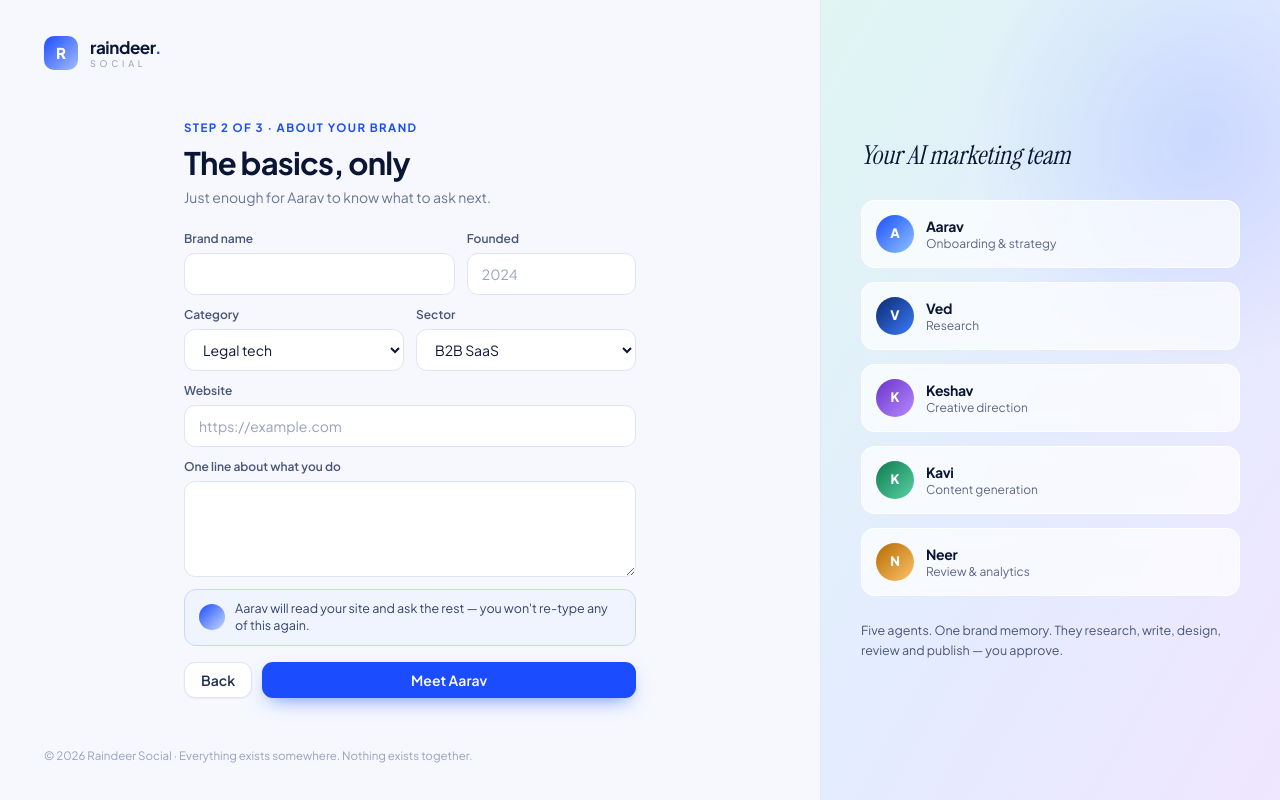
Test: SignupBrandPage › requires a brand name before submitting
The image size is (1280, 800).
Click the button "Meet Aarav".
click(449, 680)  # box 262,662 -> 636,698
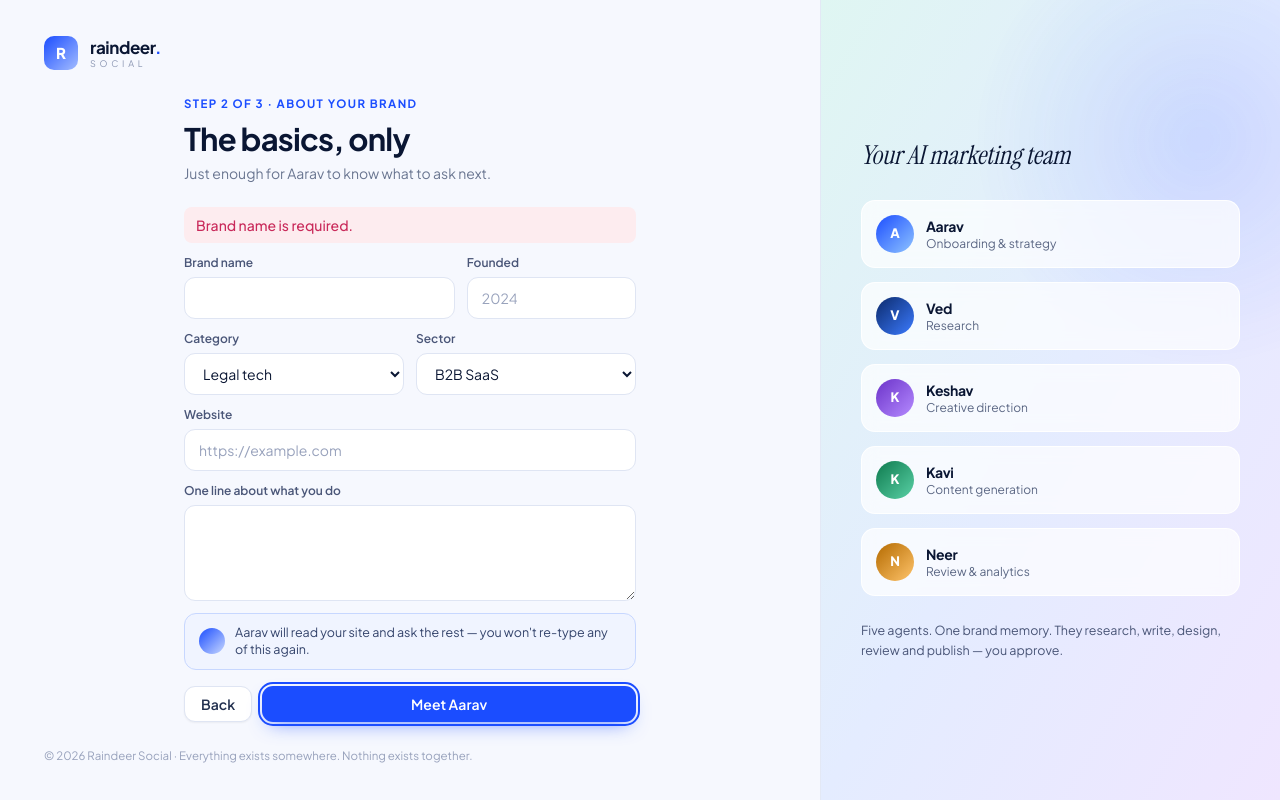
Check: the text "Brand name is required." is shown, box 184,207 -> 636,243
